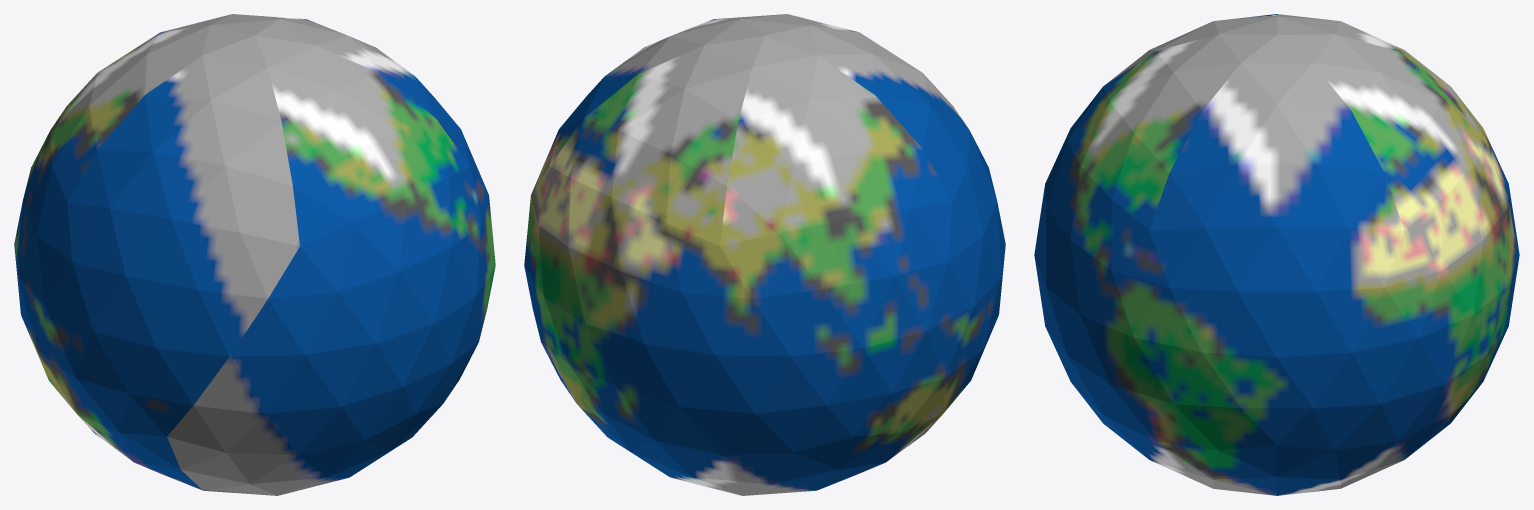
The model's file is earthico2.obj.
3 renders of one model, left to right at view 1: azimuth 30°, elevation 25°; view 2: azimuth 150°, elevation 25°; view 3: azimuth 270°, elevation 25°, orthographic.
Parts seen in each view (by area): view 1: earthico2_Icosphere; view 2: earthico2_Icosphere; view 3: earthico2_Icosphere.
Part boxes in pixels (bbox=[...]): earthico2_Icosphere: bbox=[14, 14, 495, 495]; earthico2_Icosphere: bbox=[524, 14, 1005, 495]; earthico2_Icosphere: bbox=[1034, 14, 1519, 495].
Size of the model in its own units: 2 by 2 by 2.
1 material, 1 textured.
